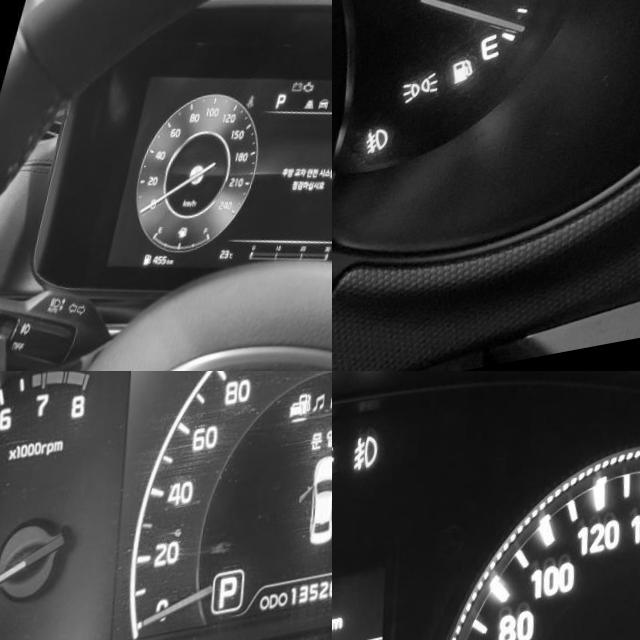FrontFogLight: (356, 445, 382, 484), (370, 136, 395, 165)
Low fuel level: (456, 71, 479, 98)
SideLamp: (405, 82, 445, 116)
